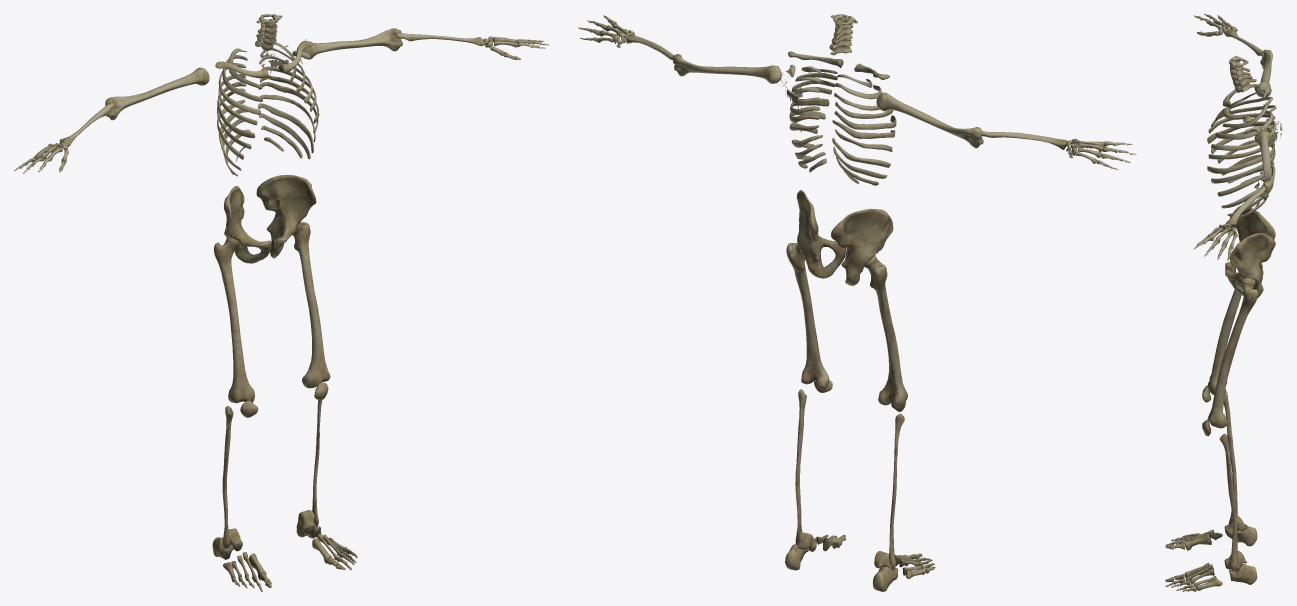
Rendered from HumanSkeleton_part_2.fbx.
3 renders of one model, left to right at view 1: azimuth 30°, elevation 25°; view 2: azimuth 150°, elevation 25°; view 3: azimuth 270°, elevation 25°, orthographic. The views are drawn at different scales.
Visible parts, largest first — view 1: Skeletal_Esqueleto_0.003; view 2: Skeletal_Esqueleto_0.003; view 3: Skeletal_Esqueleto_0.003.
Boxes of the visible parts, x1=… form: Skeletal_Esqueleto_0.003: x1=14, y1=14, x2=549, y2=591; Skeletal_Esqueleto_0.003: x1=578, y1=14, x2=1136, y2=591; Skeletal_Esqueleto_0.003: x1=1165, y1=14, x2=1282, y2=591.
Bounding box in the file's own units: 17116 × 16580 × 3475.
